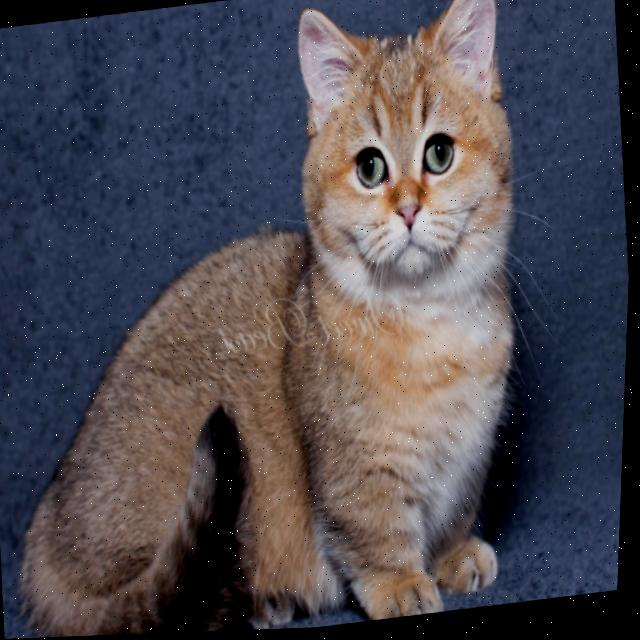Munchkin: (0, 0, 559, 640)
